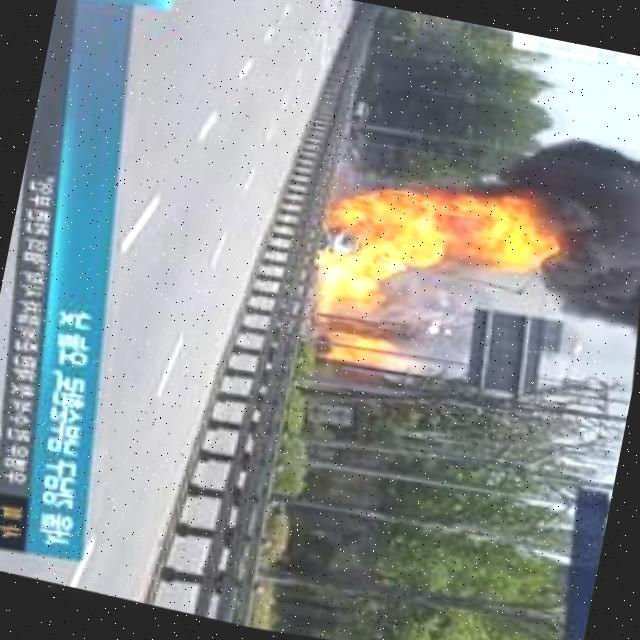fire: (362, 178, 526, 286), (320, 248, 391, 324), (327, 333, 394, 376), (328, 190, 373, 246)
